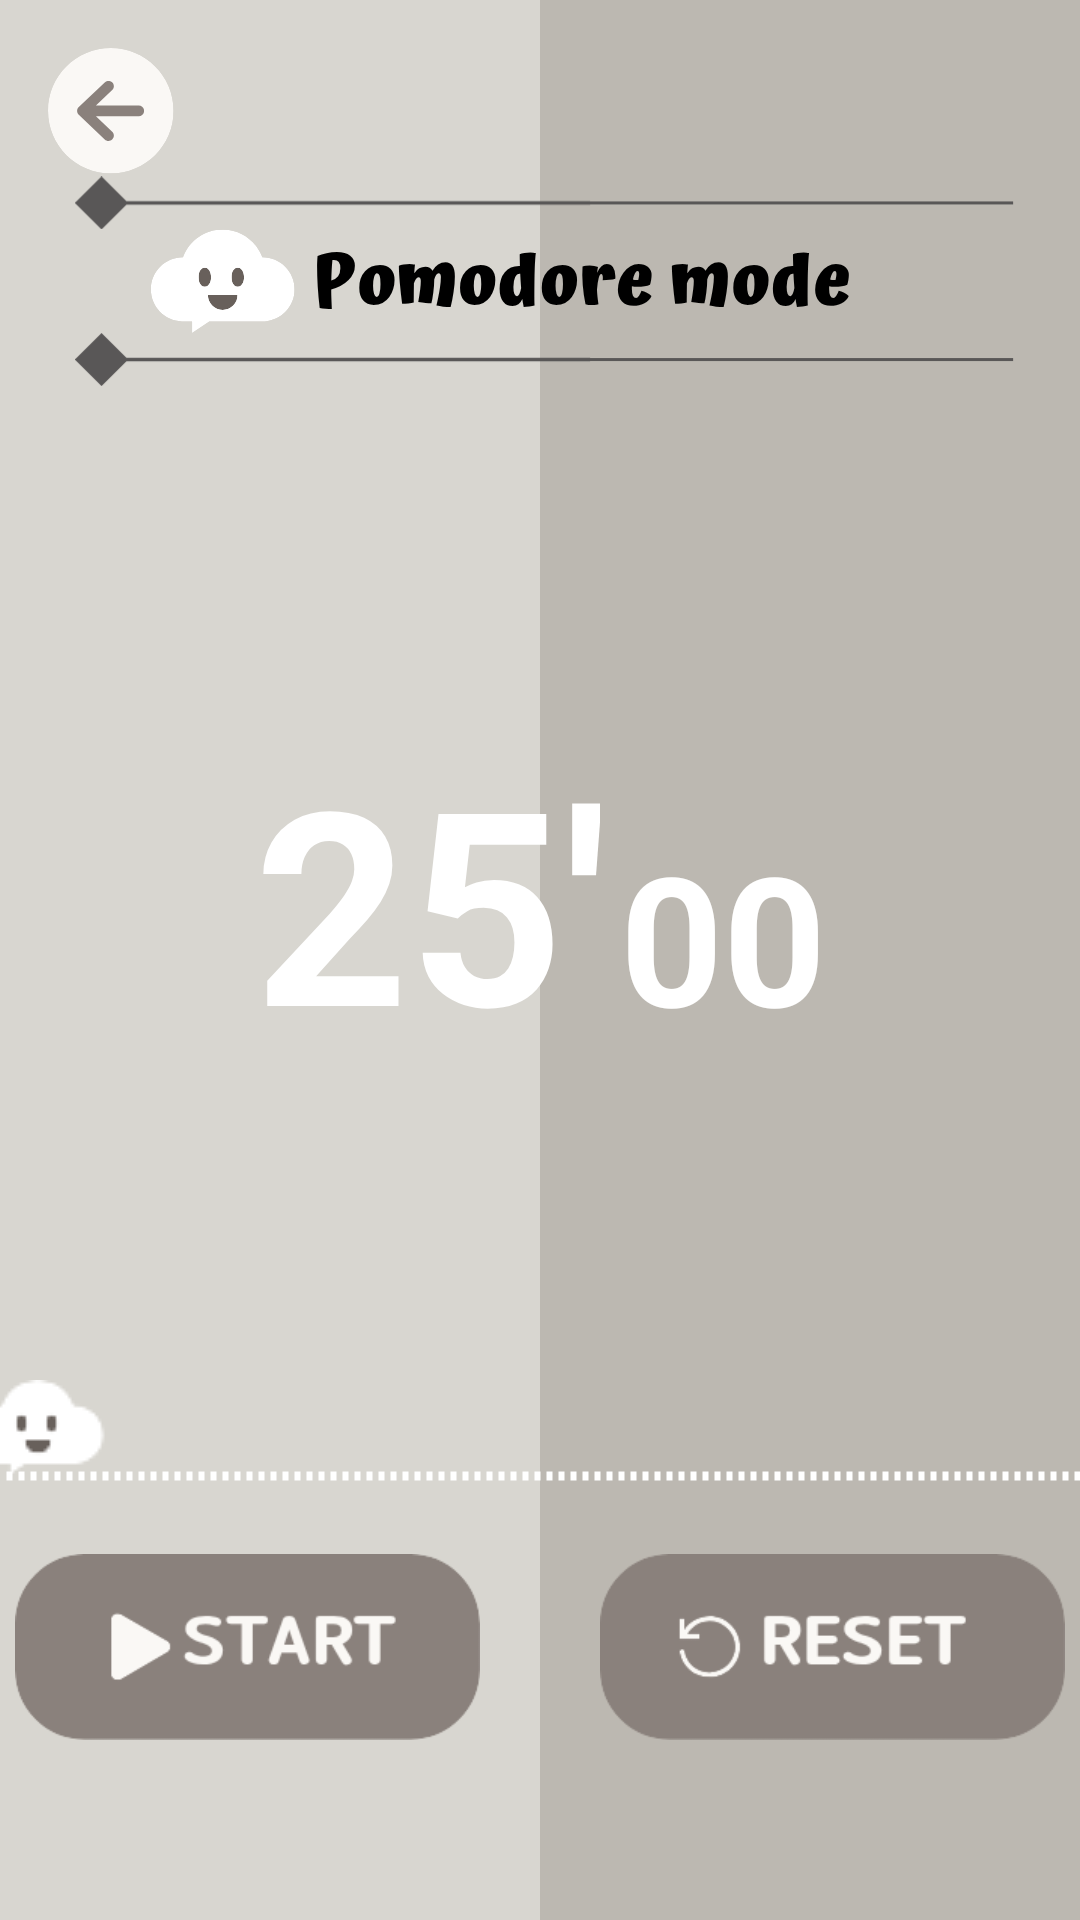

Screen size 1080px×1920px. Icon name, then its center in pixels as point (x, y):
back: point (110, 110)
